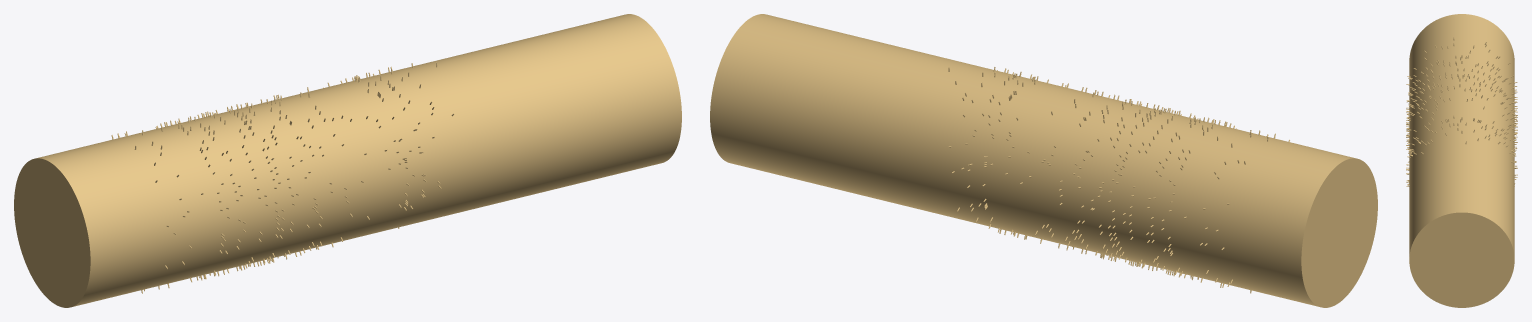
The model's file is Tchaikovsky-ballet-airs.glb.
3 views of the same model, side by side, from view 1: azimuth 30°, elevation 25°; view 2: azimuth 150°, elevation 25°; view 3: azimuth 270°, elevation 25° (orthographic). The views are drawn at different scales.
Parts seen in each view (by area): view 1: cylinder_body; view 2: cylinder_body; view 3: cylinder_body.
Boxes of the visible parts, x1,y1,x2,y2 form: cylinder_body: (14, 14, 681, 307); cylinder_body: (710, 14, 1377, 307); cylinder_body: (1409, 14, 1514, 307).
Bounding box in the file's own units: 0.214 × 0.051 × 0.051.
